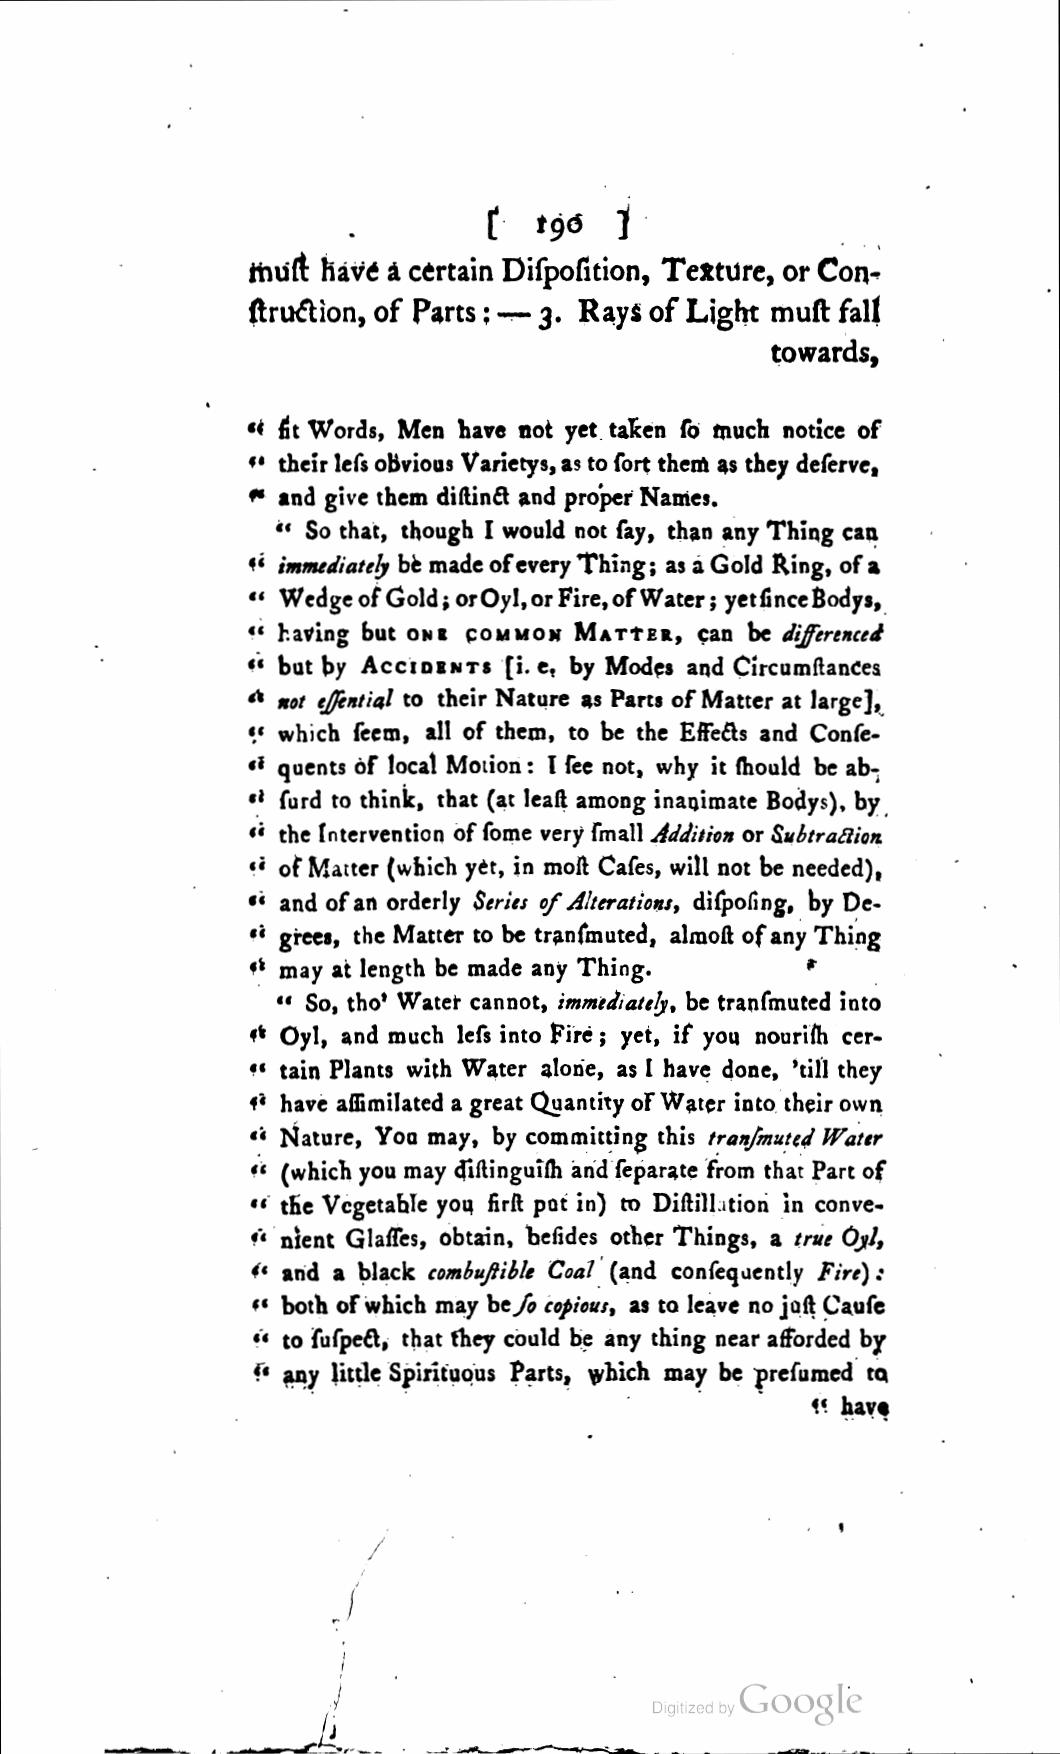bottom_p: (242, 251, 887, 333)
catchword: (768, 340, 882, 373), (809, 1394, 893, 1424)
footnotes: (244, 412, 893, 1391)
page_num: (484, 200, 634, 248)
